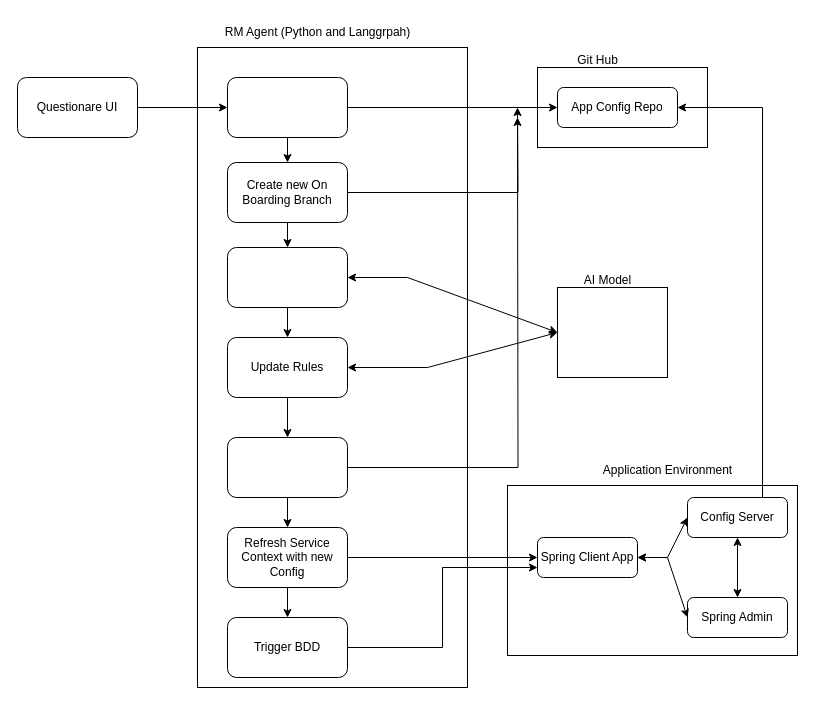
Some shapes in this 815 by 713 pixel diagram are drawn without their labels. The shapes that lost their labels are listed below. From the top down, each one's box as (x1, y1, x2, y2) in pixels, then its label:
(226, 76, 348, 138): Create Base Branch
(226, 246, 348, 308): Update Sor Codes
(556, 286, 668, 378): LLM
(226, 436, 348, 498): Create PR
